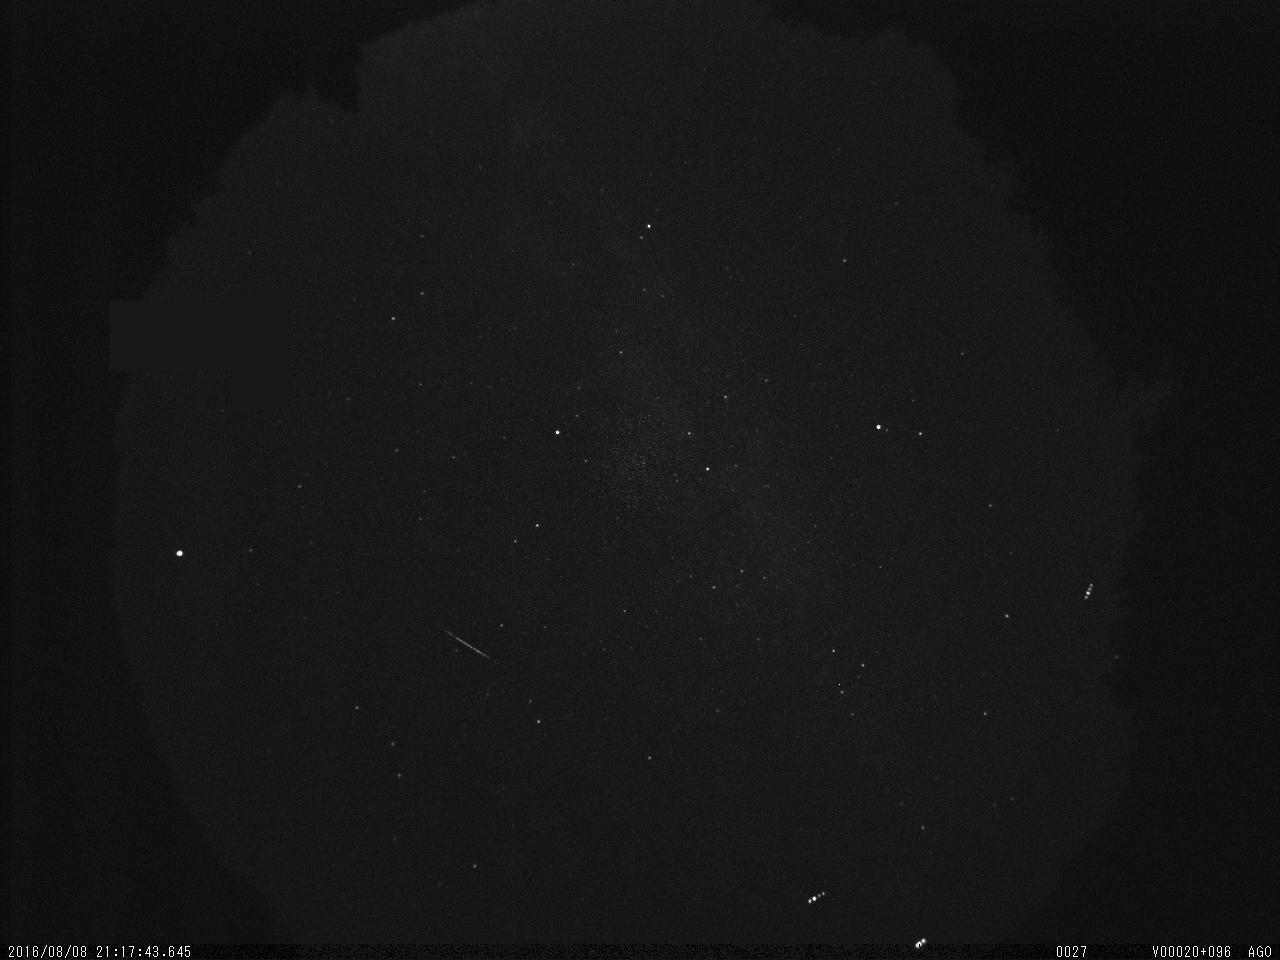meteor: (429, 613, 514, 678)
satelite: (1076, 576, 1100, 609), (804, 883, 830, 913), (908, 933, 933, 954)
